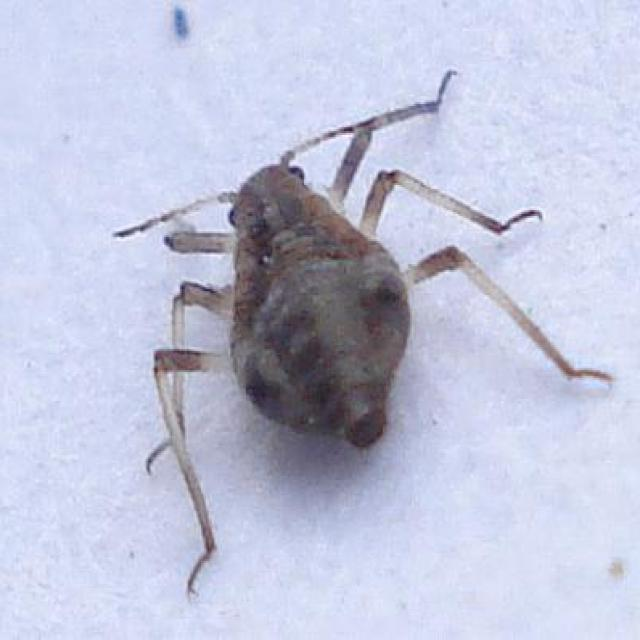aphid: (130, 69, 555, 592)
